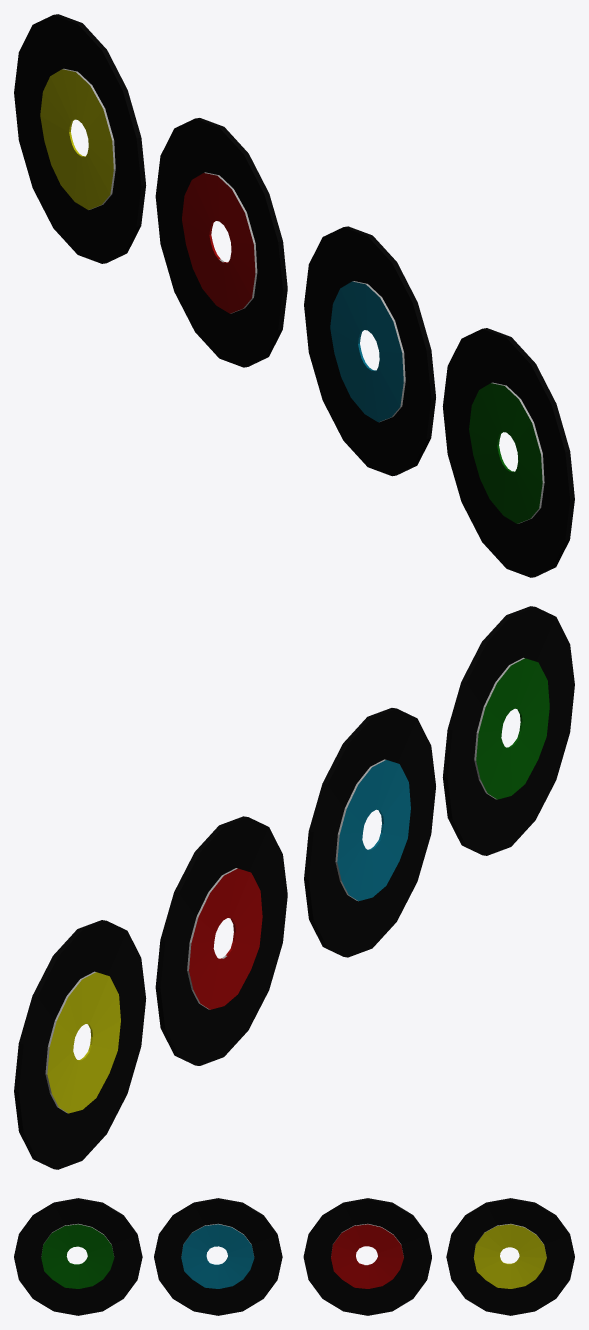
File: records low poly fbx.fbx
The picture shows the model from 3 angles, top to bottom: view 1: azimuth 30°, elevation 25°; view 2: azimuth 150°, elevation 25°; view 3: azimuth 270°, elevation 25°; orthographic projection. The views are drawn at different scales.
Visible parts, largest first — view 1: polySurface4, polySurface5, polySurface3, polySurface2; view 2: polySurface4, polySurface5, polySurface3, polySurface2; view 3: polySurface4, polySurface5, polySurface3, polySurface2.
Part boxes in pixels (x1=…): polySurface4: x1=14, y1=14, x2=146, y2=263; polySurface5: x1=442, y1=328, x2=574, y2=577; polySurface3: x1=304, y1=226, x2=435, y2=476; polySurface2: x1=155, y1=118, x2=287, y2=367; polySurface4: x1=14, y1=920, x2=146, y2=1169; polySurface5: x1=442, y1=606, x2=574, y2=855; polySurface3: x1=304, y1=708, x2=435, y2=957; polySurface2: x1=155, y1=816, x2=287, y2=1065; polySurface4: x1=446, y1=1198, x2=574, y2=1315; polySurface5: x1=14, y1=1198, x2=142, y2=1315; polySurface3: x1=154, y1=1198, x2=282, y2=1315; polySurface2: x1=303, y1=1198, x2=431, y2=1315.
Bounding box in the file's own units: 0.0288 × 0.9535 × 4.15.
